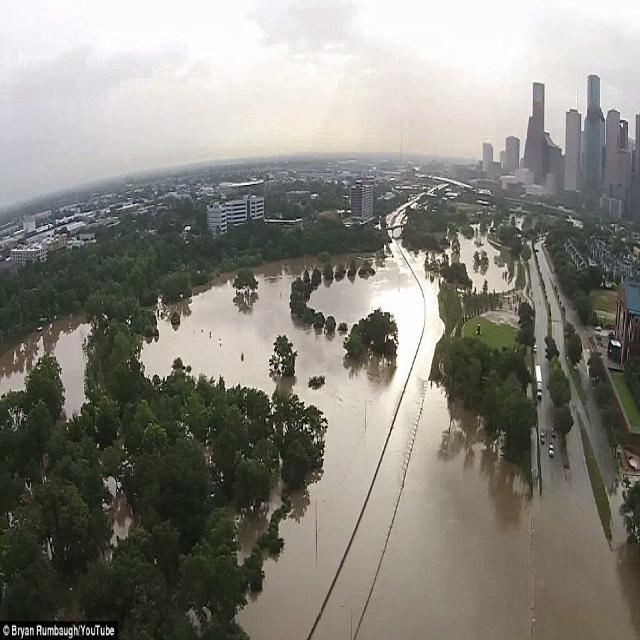flooded_areas: (163, 194, 527, 639), (3, 288, 164, 427), (526, 457, 640, 639)
